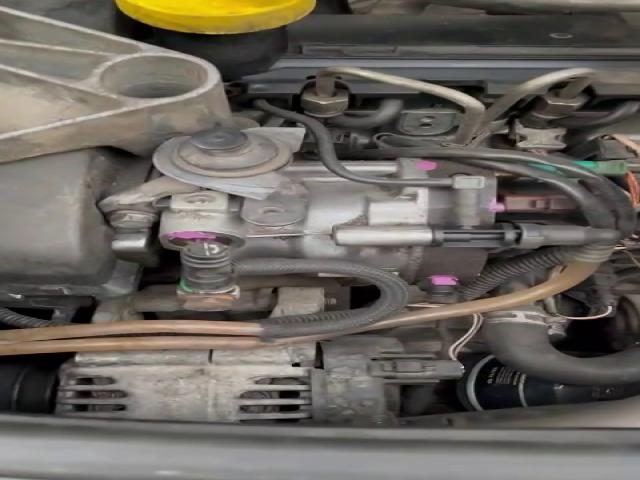alternator: (55, 343, 316, 421)
high_pressure_pump: (159, 158, 618, 292)
